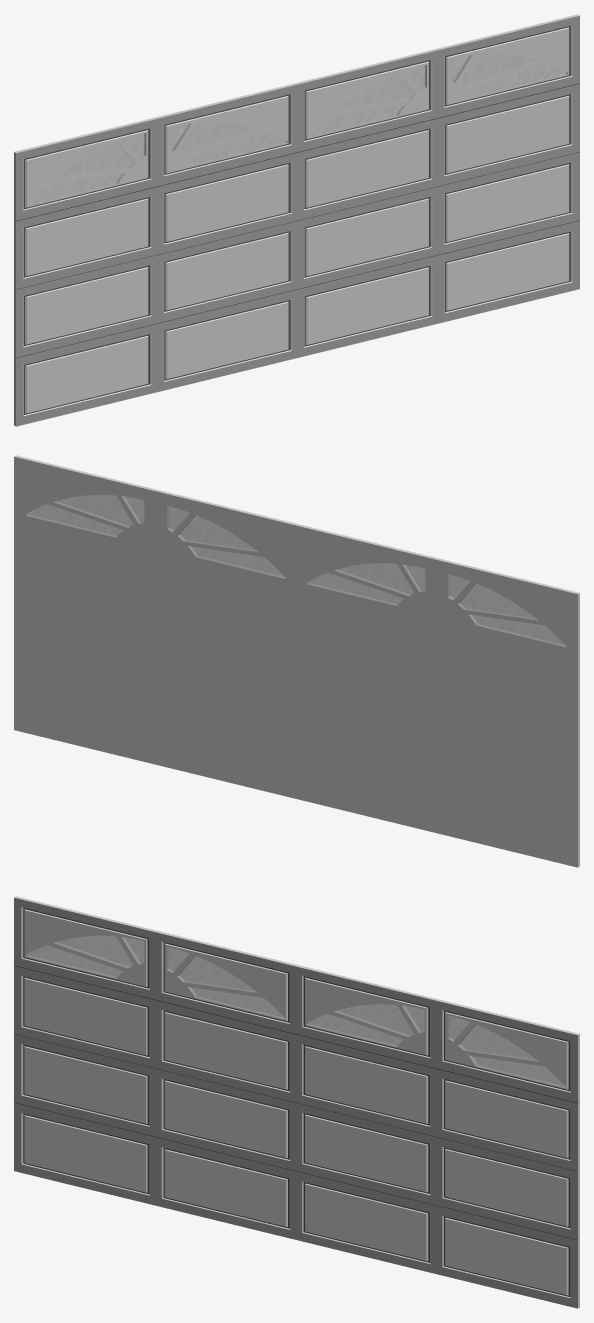
Rendered from GarageDoor.fbx.
The picture shows the model from 3 angles, top to bottom: view 1: azimuth 30°, elevation 25°; view 2: azimuth 150°, elevation 25°; view 3: azimuth 330°, elevation 25°; orthographic projection.
Visible parts, largest first — view 1: Model; view 2: Model; view 3: Model.
Part boxes in pixels (x1=…): Model: x1=14, y1=14, x2=579, y2=426; Model: x1=14, y1=455, x2=579, y2=867; Model: x1=14, y1=896, x2=579, y2=1308.
Bounding box in the file's own units: 245 × 113 × 1.5.
